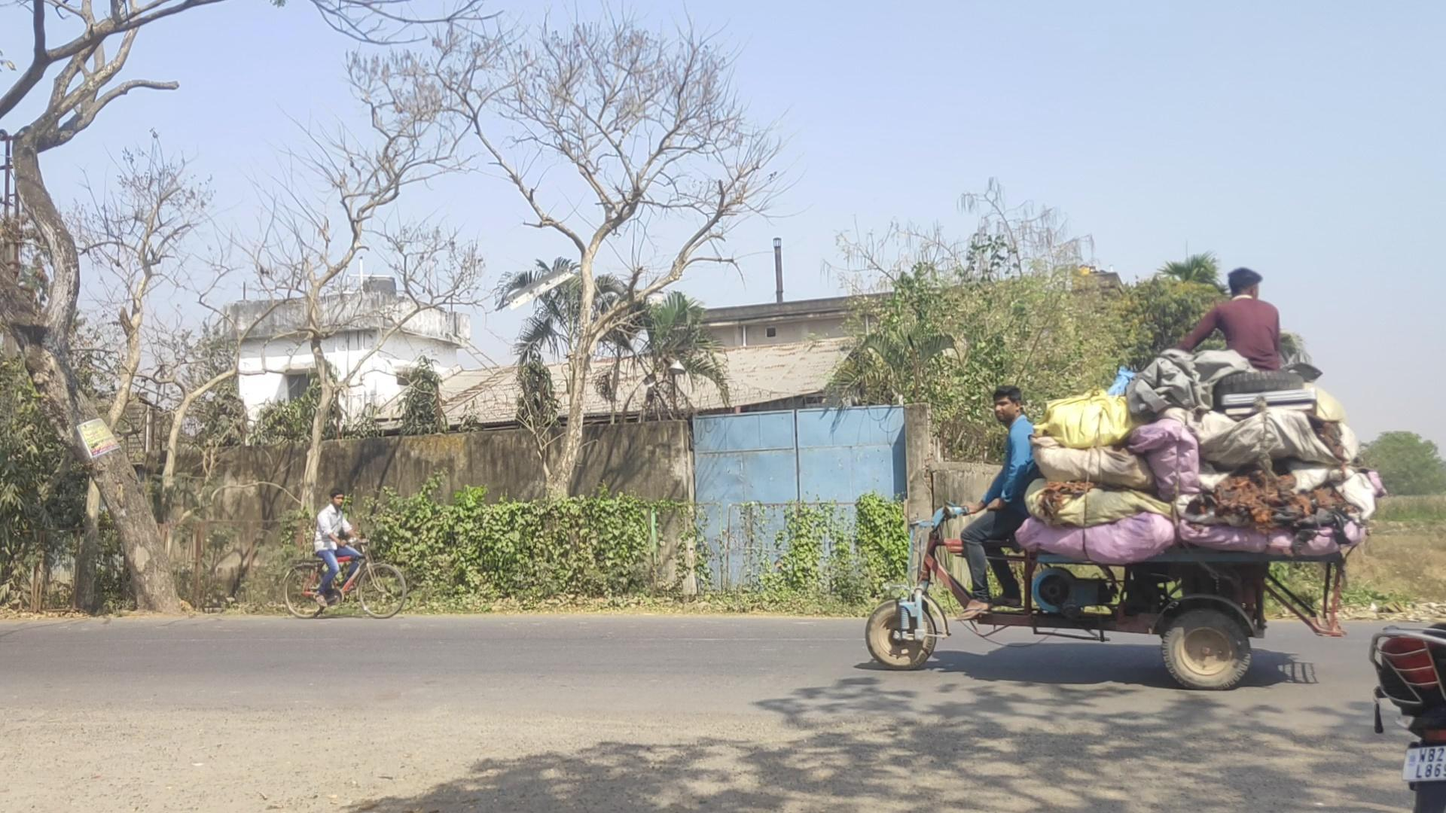bike: (282, 488, 407, 621)
